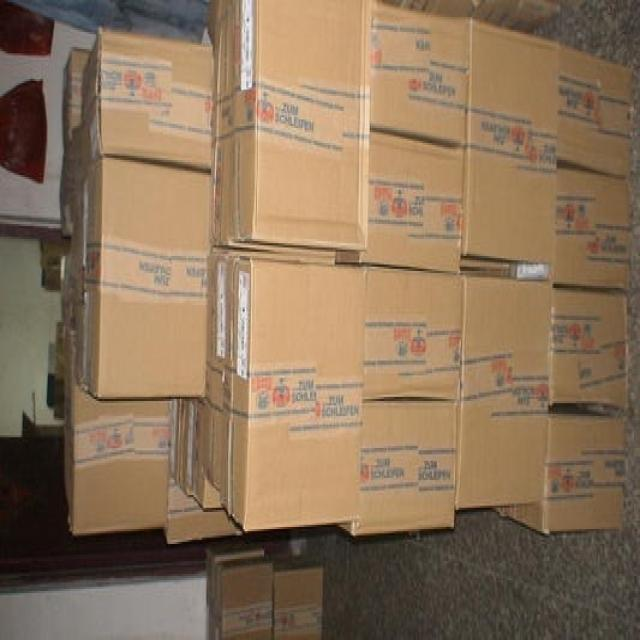box: (219, 263, 367, 532), (214, 0, 372, 248), (199, 250, 335, 490), (79, 154, 211, 399), (456, 274, 553, 506), (65, 333, 170, 534), (82, 28, 212, 171), (336, 132, 464, 273), (338, 401, 457, 534), (490, 413, 623, 532), (370, 3, 471, 145), (362, 266, 463, 403), (467, 20, 560, 163), (460, 146, 557, 266), (558, 44, 631, 179), (548, 287, 627, 408), (553, 167, 629, 289), (206, 545, 272, 637), (169, 397, 219, 508), (267, 554, 324, 636)
